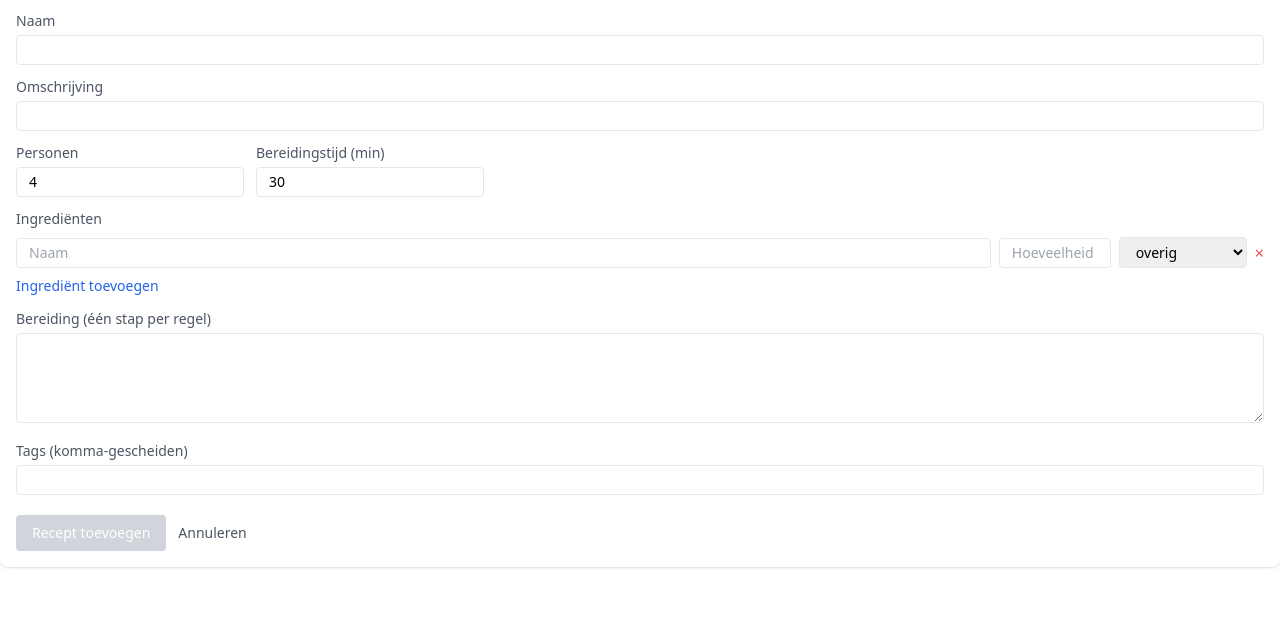
RecipeForm › ingredients › removes an ingredient row
Click the button with class "add-ingredient" at x=87, y=286, box [16, 276, 159, 296]
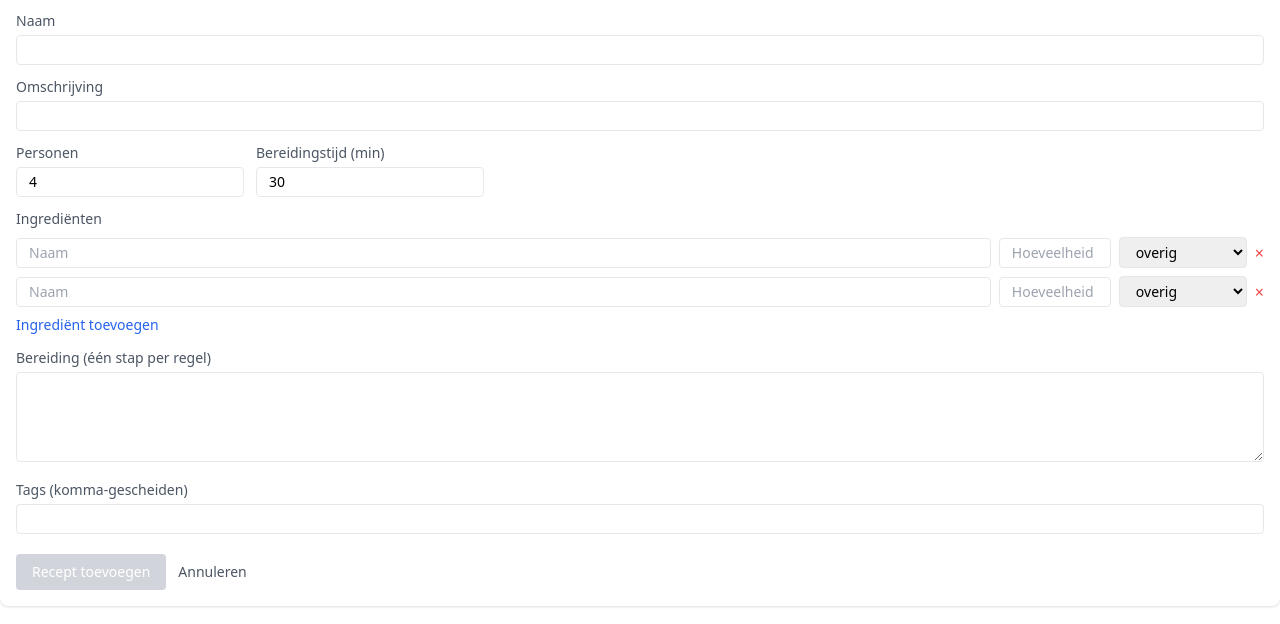
Click the 1st button with class "remove-ingredient" at x=1259, y=252, box [1255, 240, 1264, 264]
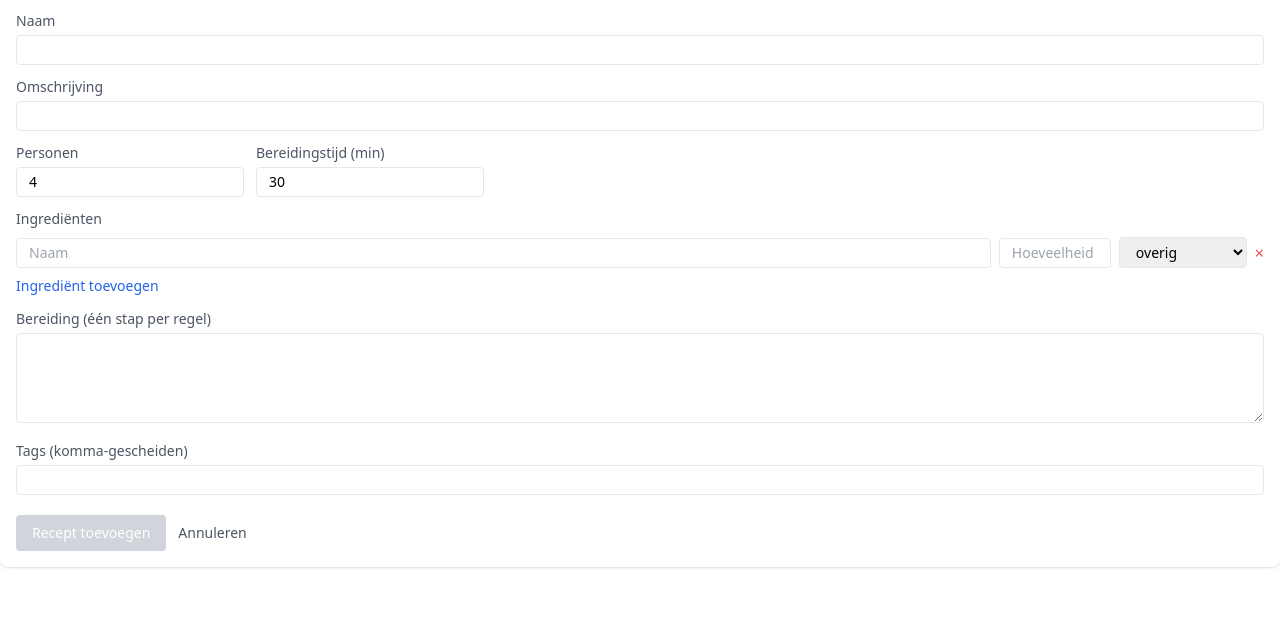
Now the number of elements with class "ingredient-row" is 1, box [16, 237, 1264, 268]
